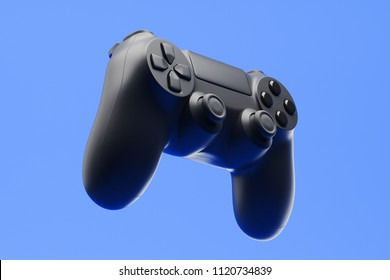gamingconsole: (85, 30, 296, 240)
